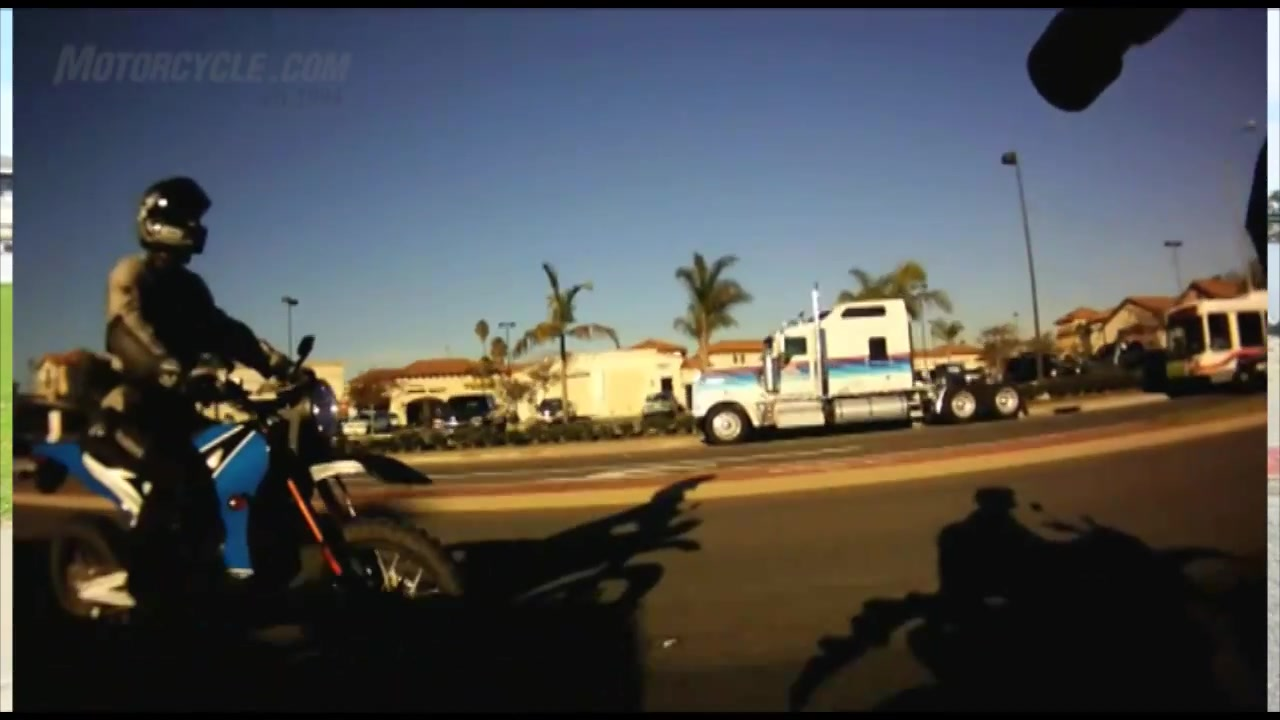motorbike: (26, 331, 479, 651)
